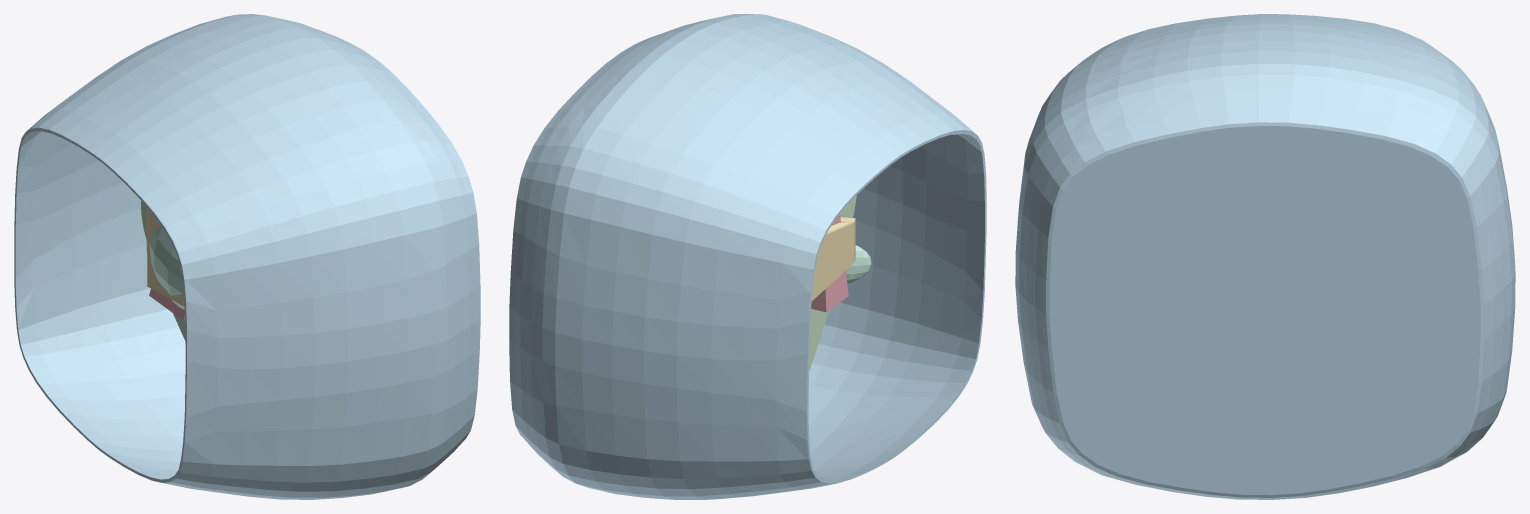
The model's file is view_input_colored.glb.
3 renders of one model, left to right at view 1: azimuth 30°, elevation 25°; view 2: azimuth 150°, elevation 25°; view 3: azimuth 270°, elevation 25°, orthographic. The views are drawn at different scales.
Parts seen in each view (by area): view 1: world; view 2: world; view 3: world.
Boxes of the visible parts, x1=… form: world: x1=14, y1=14, x2=480, y2=499; world: x1=509, y1=14, x2=986, y2=499; world: x1=1015, y1=14, x2=1515, y2=499.
Bounding box in the file's own units: 0.4554 × 0.6344 × 0.6678.
